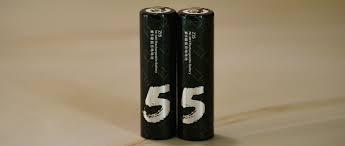AA: (176, 6, 214, 141), (139, 5, 177, 140)
